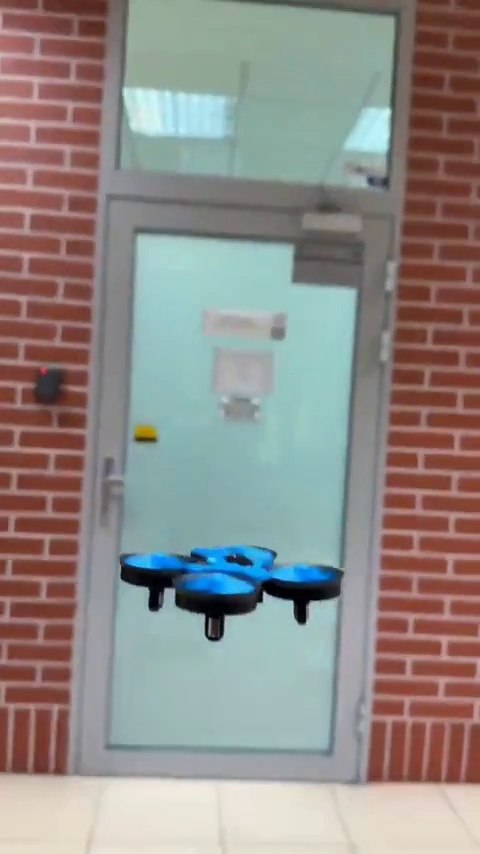drone: (113, 545, 349, 638)
